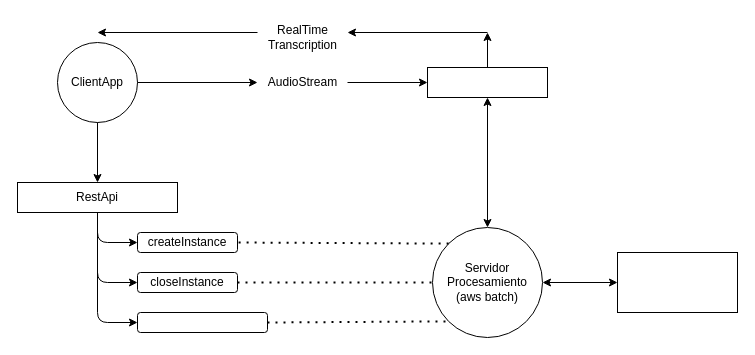
Image size: 755x355. Some labels were removed from this diagram. The centre of each missing label's shape, as x and y in pixels:
checkInstanceStatus: point 202,322
WebSocketApi: point 487,82
wishper (local)/ deepgram(request): point 677,282
